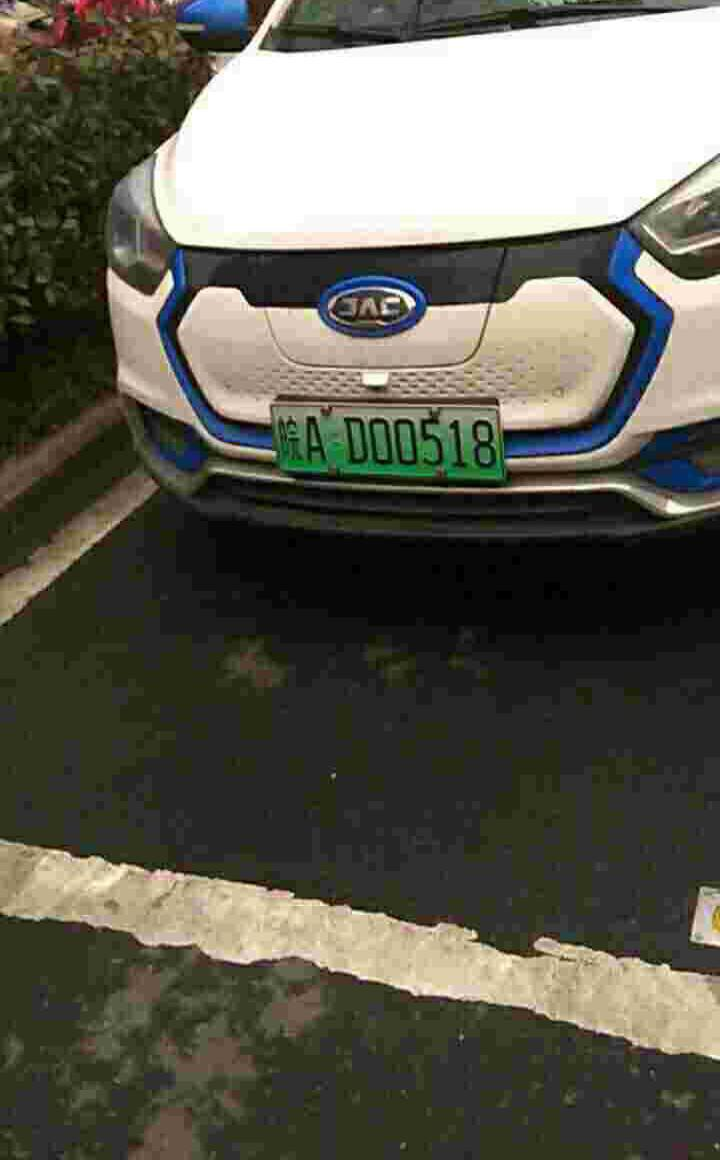car_id: (270, 408, 504, 481)
